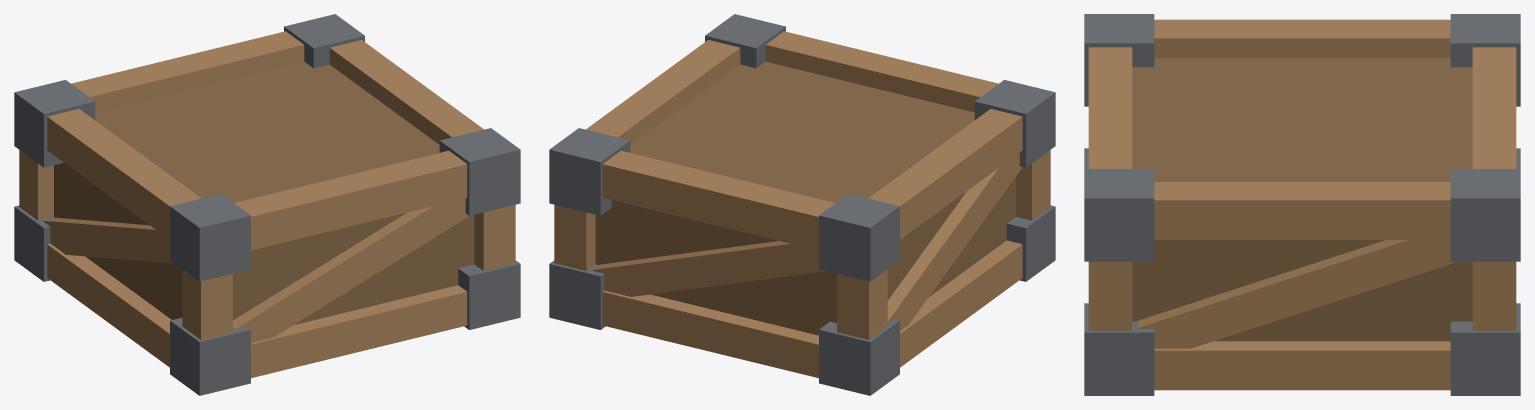
File: crate_half_01.glb
3 renders of one model, left to right at view 1: azimuth 30°, elevation 25°; view 2: azimuth 150°, elevation 25°; view 3: azimuth 270°, elevation 25°, orthographic. The views are drawn at different scales.
Visible parts, largest first — view 1: CrateHalf_01; view 2: CrateHalf_01; view 3: CrateHalf_01.
Boxes of the visible parts, x1=… form: CrateHalf_01: x1=14, y1=14, x2=520, y2=395; CrateHalf_01: x1=549, y1=14, x2=1055, y2=395; CrateHalf_01: x1=1084, y1=14, x2=1520, y2=395.
Size of the model in its own units: 1 by 0.5 by 1.
